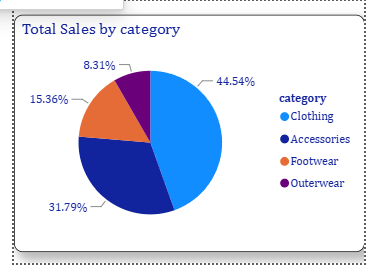

The page's visual inventory and layout, read from the dashboard file:
{"tool":"powerbi","page":{"name":"tooltip","canvas":[400,300],"ordinal":3},"visuals":[{"type":"pieChart","fields":{"Y":["Measures (2).Total Sales"],"Category":["public customer.category"]},"box":[0,15,401,271],"z":0}]}

Visuals, with their boxes in screenshot pixels (x1, y1, x2, y2):
pieChart - Measures (2).Total Sales x public customer.category: left=13, top=13, right=364, bottom=251
